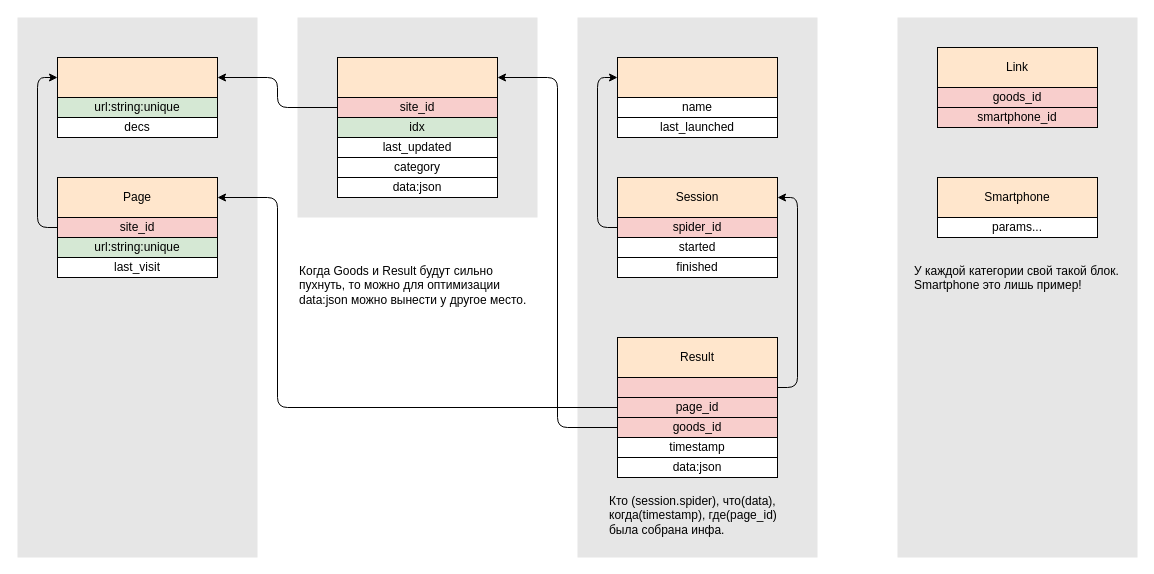
This 1154x574 diagram has some shape labels left out. Each missing label, with the centre of its shape:
Goods: the point at 417,77
session_id: the point at 697,387
Site: the point at 137,77
Spider: the point at 697,77
